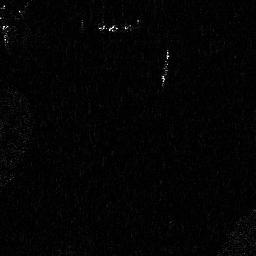ship: (161, 47, 172, 85)
